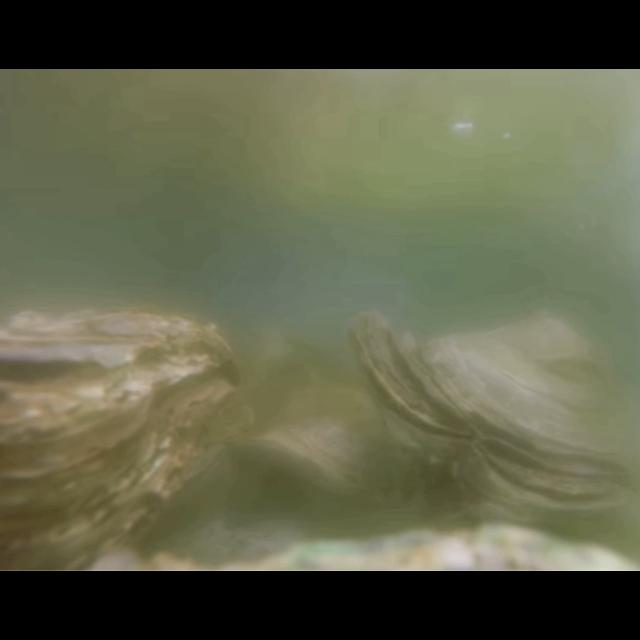Oyster-Closed: (0, 307, 260, 571), (344, 308, 640, 528), (232, 380, 402, 502)
